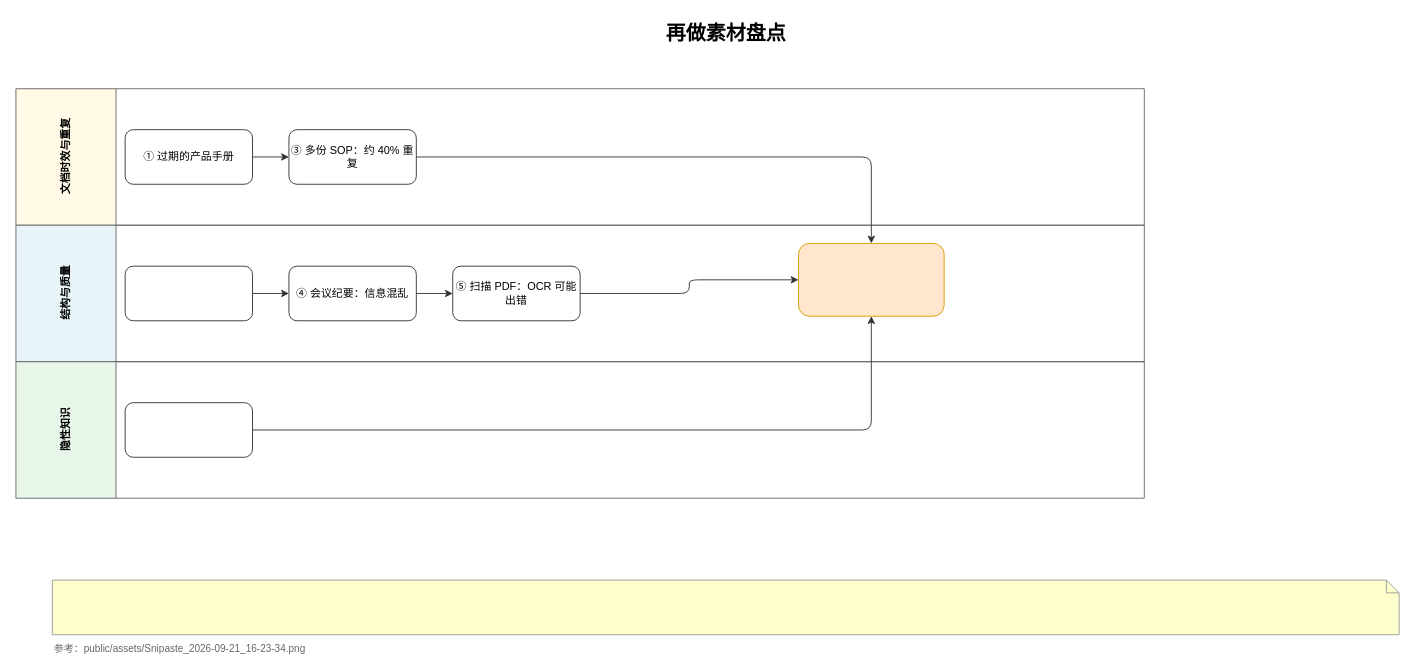
Some shapes in this 1415 by 672 pixel diagram are drawn without their labels. Here are the shapes that lost their labels. From the top down, the centre of each, then its label:
At point 188,293: "② 报价 Excel：标准不统一".
At point 871,279: "看清手头有什么".
At point 188,429: "老员工经验还没写下来".
At point 725,607: "先看清手头有什么，再决定补什么、删什么".
